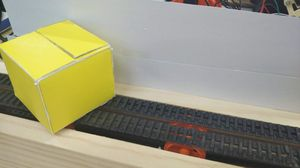box4: (1, 20, 115, 135)
